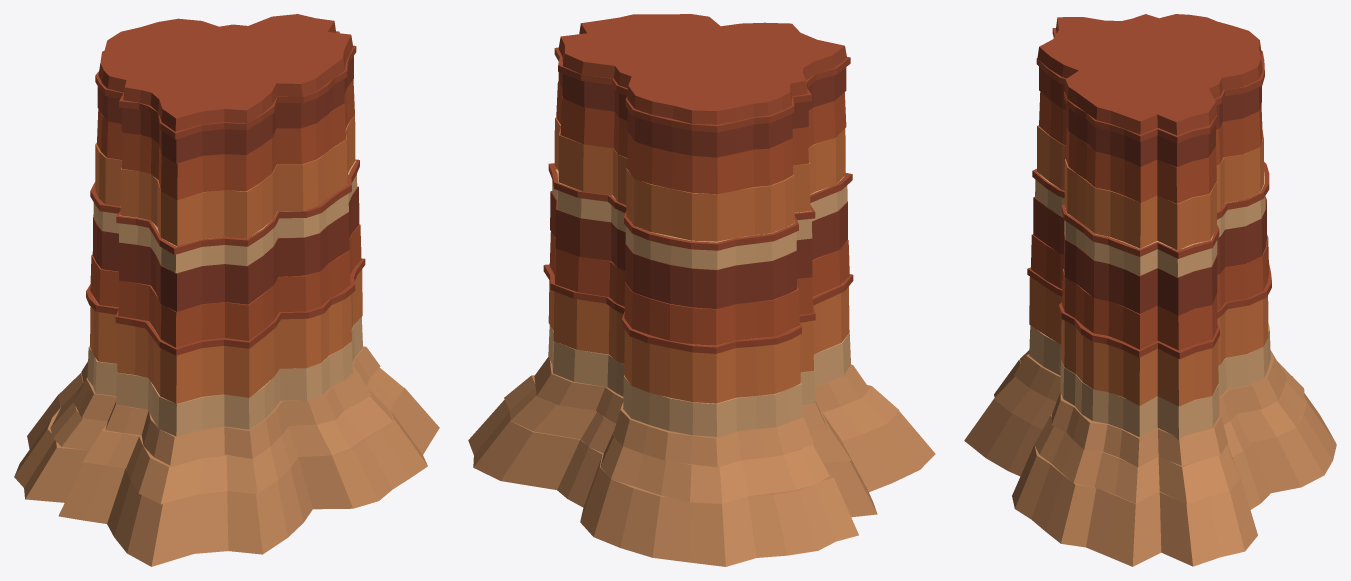
Rendered from dune_butte.glb.
3 renders of one model, left to right at view 1: azimuth 30°, elevation 25°; view 2: azimuth 150°, elevation 25°; view 3: azimuth 270°, elevation 25°, orthographic. The views are drawn at different scales.
Parts seen in each view (by area): view 1: Butte; view 2: Butte; view 3: Butte.
Boxes of the visible parts, box(x1,y1,x2,y2) form: Butte: box(14, 14, 439, 566); Butte: box(468, 14, 935, 566); Butte: box(964, 14, 1336, 566).
Size of the model in its own units: 32.31 by 33 by 27.55.
